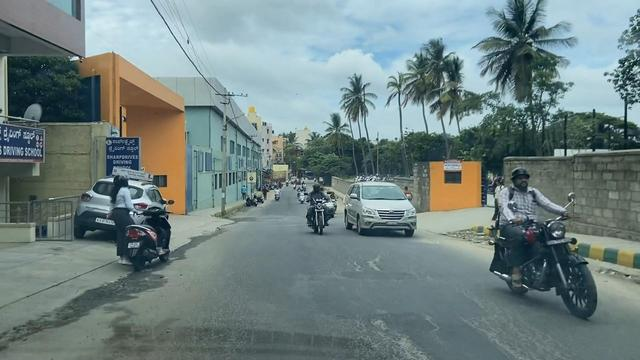RoadDamages: (319, 241, 410, 283)
